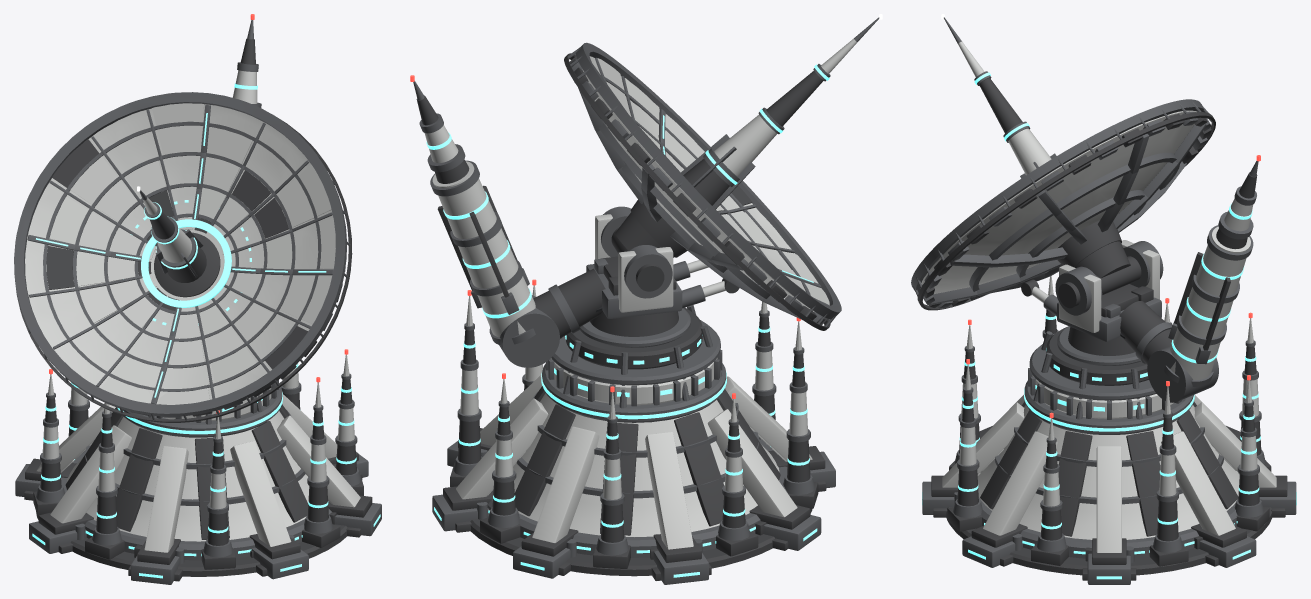
3 views of the same model, side by side, from view 1: azimuth 30°, elevation 25°; view 2: azimuth 150°, elevation 25°; view 3: azimuth 270°, elevation 25° (orthographic). The views are drawn at different scales.
Visible parts, largest first — view 1: PA01_Parabole, PA01_Socle, PA01_Tourelle; view 2: PA01_Socle, PA01_Parabole, PA01_Tourelle; view 3: PA01_Socle, PA01_Parabole, PA01_Tourelle.
Boxes of the visible parts, bbox=[...] form: PA01_Parabole: bbox=[14, 92, 352, 422]; PA01_Socle: bbox=[15, 349, 381, 584]; PA01_Tourelle: bbox=[232, 14, 261, 107]; PA01_Socle: bbox=[432, 279, 835, 584]; PA01_Parabole: bbox=[564, 14, 882, 330]; PA01_Tourelle: bbox=[410, 75, 739, 367]; PA01_Socle: bbox=[922, 276, 1296, 584]; PA01_Parabole: bbox=[911, 14, 1215, 310]; PA01_Tourelle: bbox=[1021, 155, 1260, 402].
Bounding box in the file's own units: 107 × 129 × 107.
